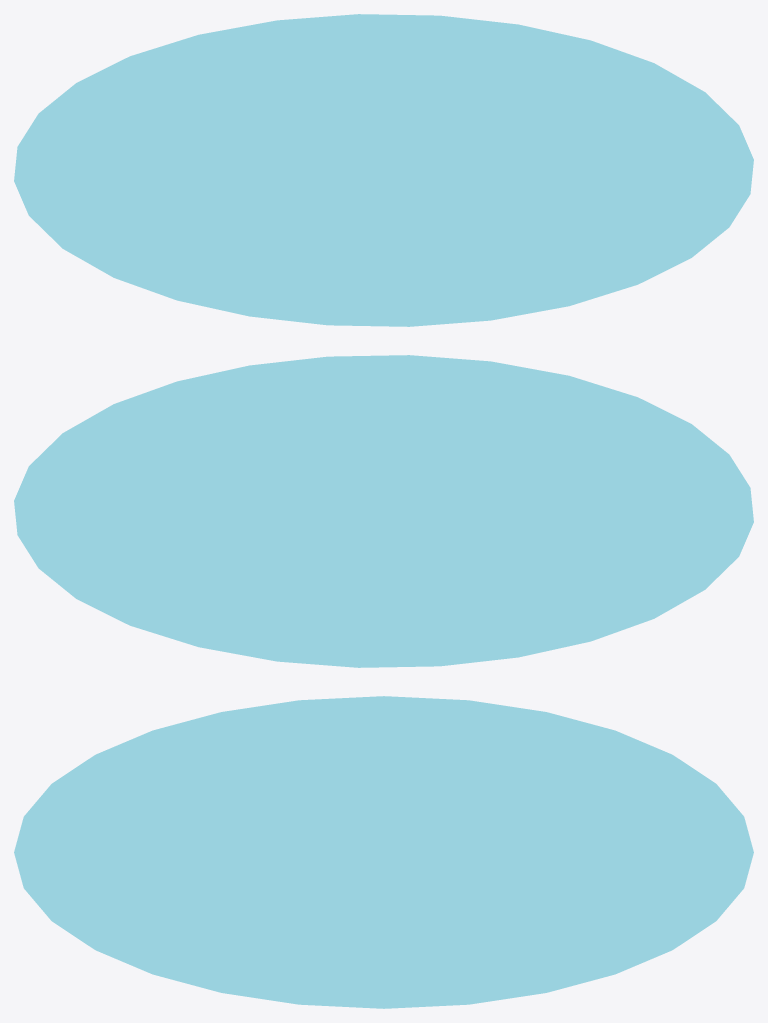
File: ShieldMarker.FBX
The picture shows the model from 3 angles, top to bottom: view 1: azimuth 30°, elevation 25°; view 2: azimuth 150°, elevation 25°; view 3: azimuth 270°, elevation 25°; orthographic projection.
Visible parts, largest first — view 1: ShieldMarker; view 2: ShieldMarker; view 3: ShieldMarker.
Boxes of the visible parts, x1,y1,x2,y2 form: ShieldMarker: [14, 14, 753, 326]; ShieldMarker: [14, 355, 753, 667]; ShieldMarker: [14, 696, 753, 1008].
Bounding box in the file's own units: 2 × 2 × 2.9e-07.
